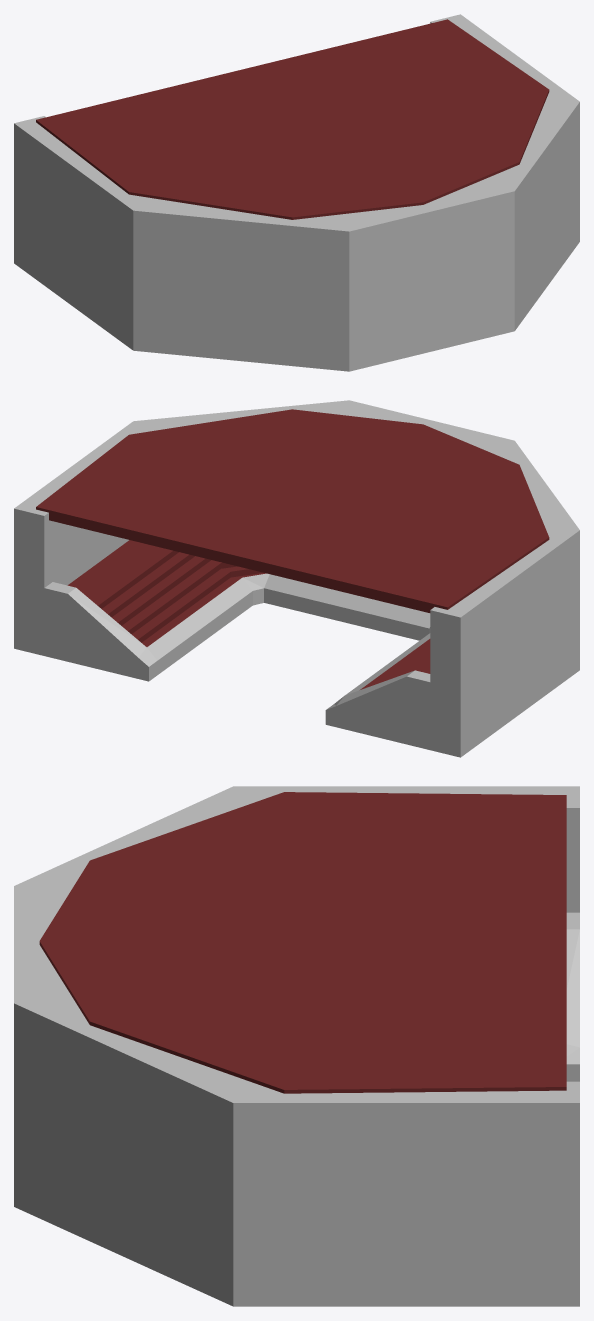
Rendered from scene_eGEUHoGvS0.glb.
3 views of the same model, one above another, from view 1: azimuth 30°, elevation 25°; view 2: azimuth 150°, elevation 25°; view 3: azimuth 270°, elevation 25° (orthographic). The views are drawn at different scales.
Visible parts, largest first — view 1: StadiumSits4_Cube.001; view 2: StadiumSits4_Cube.001; view 3: StadiumSits4_Cube.001.
Part boxes in pixels (x1,y1,x2,y2): StadiumSits4_Cube.001: (14, 14, 579, 371); StadiumSits4_Cube.001: (14, 400, 579, 757); StadiumSits4_Cube.001: (14, 786, 579, 1306).
Size of the model in its own units: 50.04 by 15.27 by 37.8.
